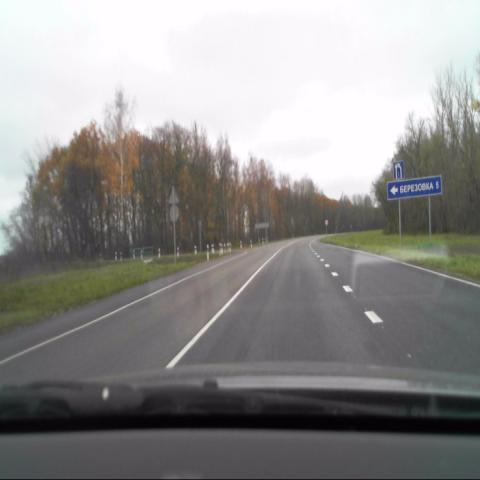5_15_5: (394, 162, 402, 178)
